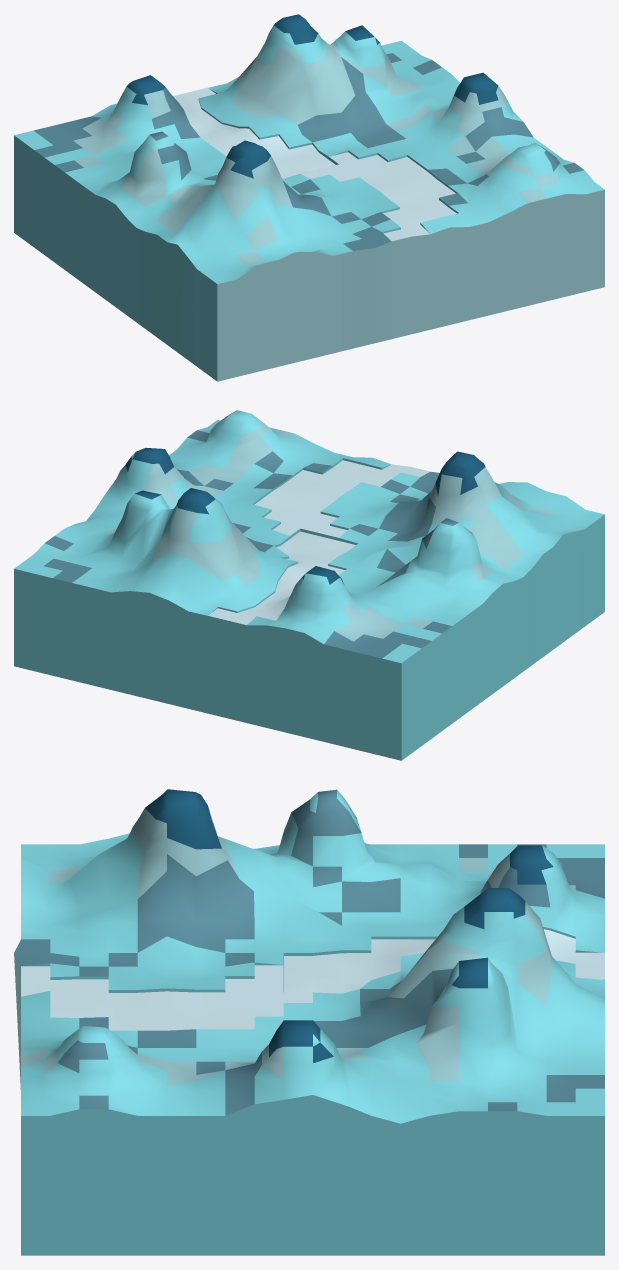
Rendered from LevelMenu3.fbx.
3 renders of one model, top to bottom at view 1: azimuth 30°, elevation 25°; view 2: azimuth 150°, elevation 25°; view 3: azimuth 270°, elevation 25°, orthographic. The views are drawn at different scales.
Parts seen in each view (by area): view 1: Box082; view 2: Box082; view 3: Box082.
Boxes of the visible parts, left/top/right/bottom form: Box082: left=14, top=14, right=604, bottom=381; Box082: left=14, top=410, right=604, bottom=760; Box082: left=14, top=789, right=604, bottom=1255.
Size of the model in its own units: 291 by 135 by 268.
Materials: 5 (5 with a texture image).
